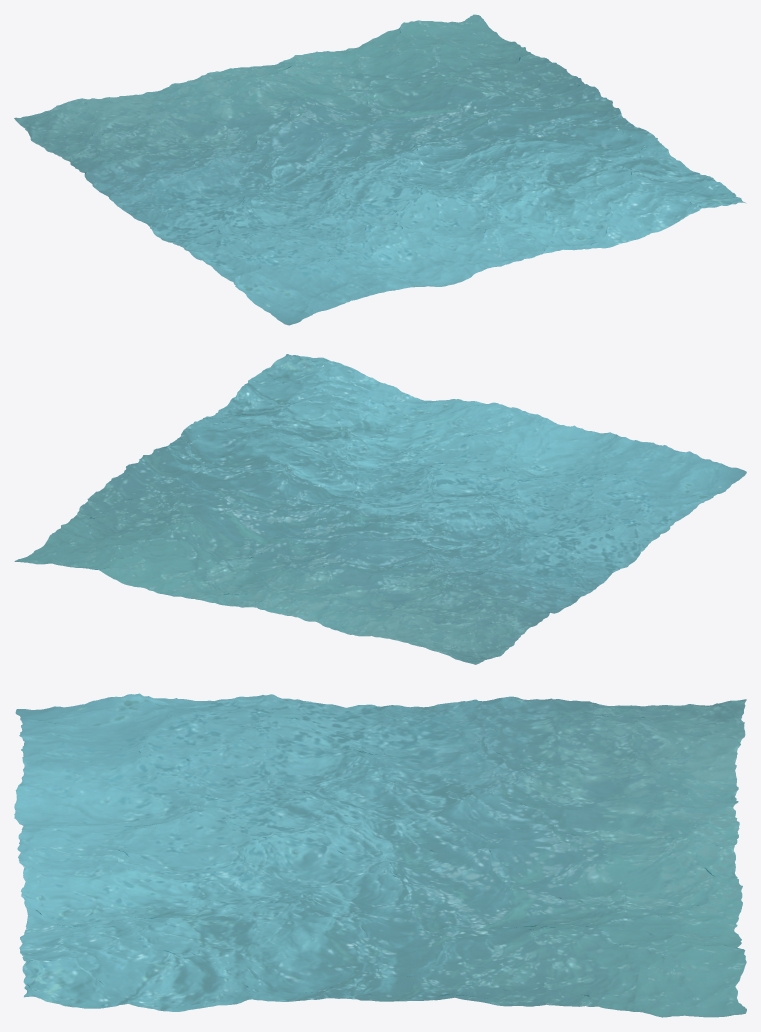
The model's file is ocean_wave.glb.
The picture shows the model from 3 angles, top to bottom: view 1: azimuth 30°, elevation 25°; view 2: azimuth 150°, elevation 25°; view 3: azimuth 270°, elevation 25°; orthographic projection. The views are drawn at different scales.
Visible parts, largest first — view 1: Wave; view 2: Wave; view 3: Wave.
Part boxes in pixels (<box>): Wave: <box>14,14,746,325</box>; Wave: <box>14,354,746,664</box>; Wave: <box>14,693,746,1017</box>.
Bounding box in the file's own units: 205 × 8.54 × 205.
Materials: 1 (1 with a texture image).
